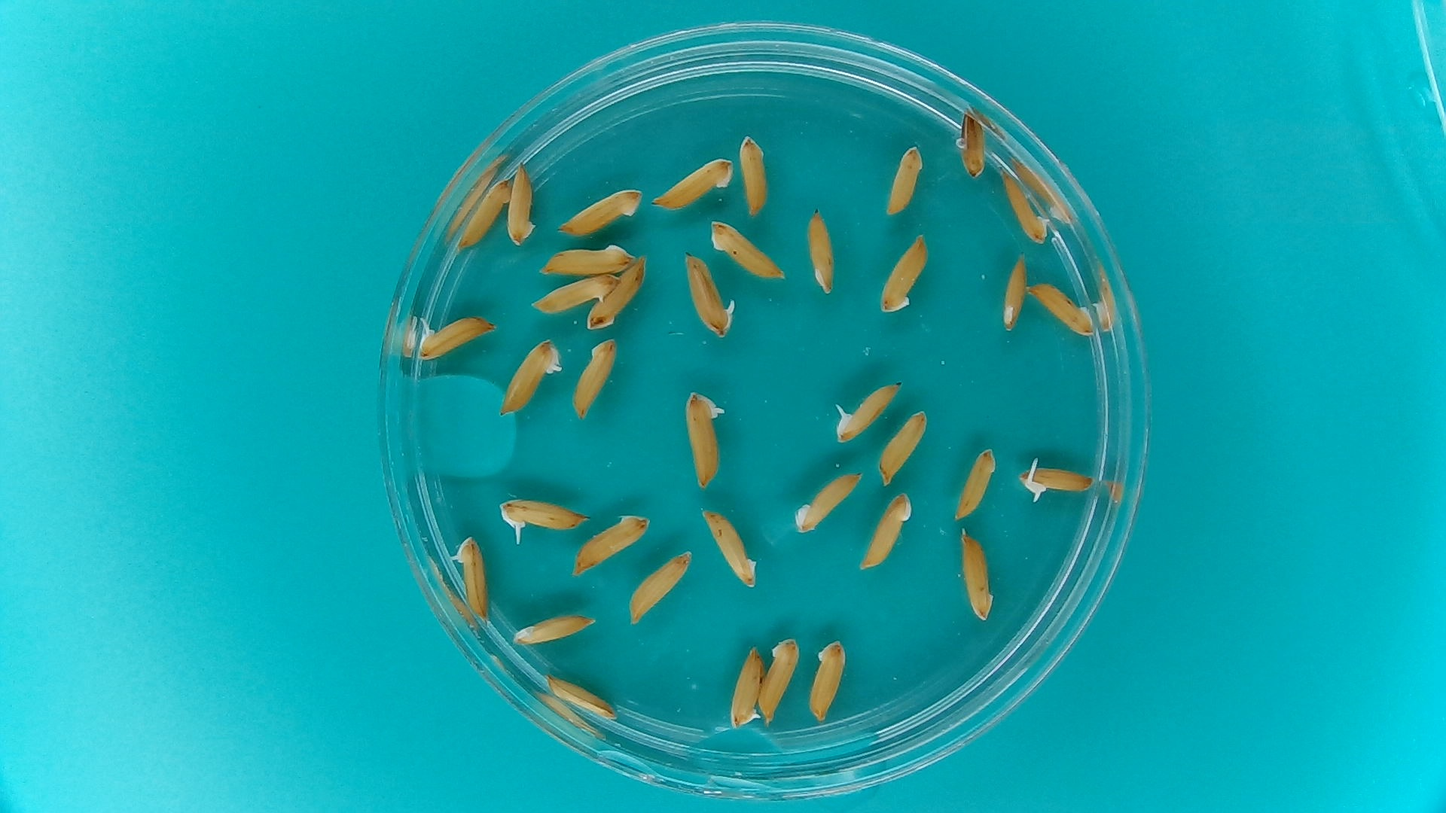no: (570, 512, 653, 579), (627, 549, 696, 628), (708, 218, 788, 280), (699, 508, 759, 590), (586, 254, 648, 333), (795, 471, 867, 538), (452, 177, 514, 254), (649, 157, 735, 212), (878, 233, 933, 318), (556, 187, 645, 239), (877, 407, 931, 490), (859, 490, 914, 571), (758, 636, 803, 729), (571, 337, 619, 423), (1027, 280, 1096, 338), (999, 167, 1050, 245), (542, 671, 618, 723), (532, 273, 622, 315), (951, 446, 999, 523), (807, 638, 846, 725), (959, 527, 994, 623), (538, 244, 639, 277), (729, 645, 766, 733), (510, 614, 598, 647), (886, 143, 924, 219), (806, 208, 837, 297), (738, 134, 769, 218), (507, 163, 536, 246), (957, 102, 987, 181), (1002, 251, 1027, 336)
yes: (499, 339, 564, 419), (436, 534, 491, 627), (682, 248, 737, 336), (497, 496, 590, 547), (834, 379, 905, 445), (416, 312, 498, 363), (685, 388, 726, 490), (1016, 458, 1094, 504)
